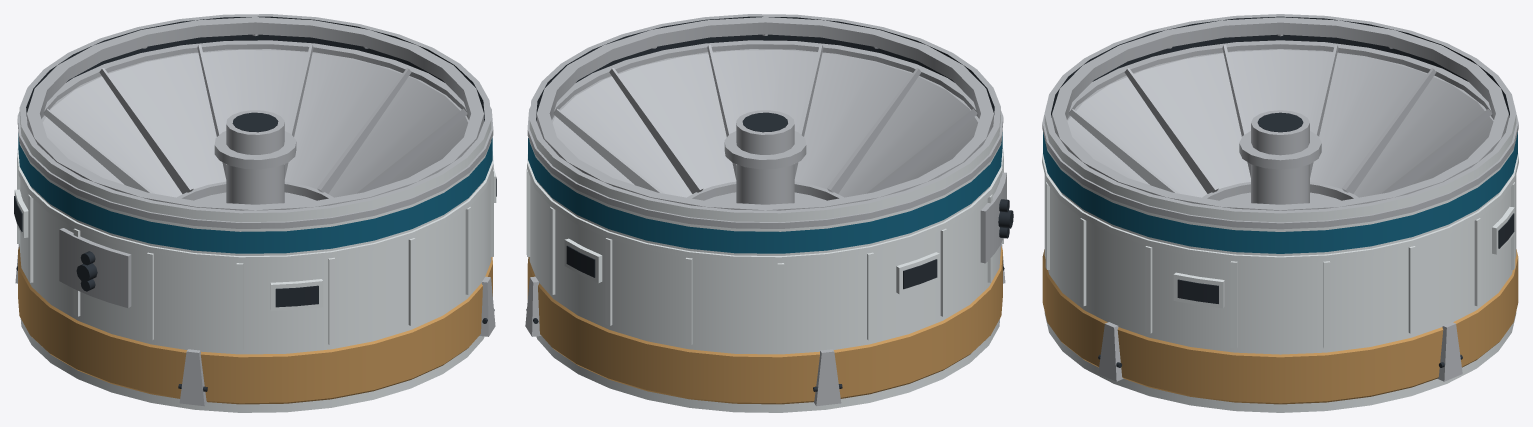
The model's file is mount_s1_1_d15.glb.
3 renders of one model, left to right at view 1: azimuth 30°, elevation 25°; view 2: azimuth 150°, elevation 25°; view 3: azimuth 270°, elevation 25°, orthographic.
Visible parts, largest first — view 1: mount_s1_1_d15_mesh; view 2: mount_s1_1_d15_mesh; view 3: mount_s1_1_d15_mesh.
Part boxes in pixels (x1,y1,x2,y2): mount_s1_1_d15_mesh: (14, 14, 496, 412); mount_s1_1_d15_mesh: (525, 14, 1013, 412); mount_s1_1_d15_mesh: (1042, 14, 1518, 412).
Bounding box in the file's own units: 1.53 × 0.7 × 1.52.
